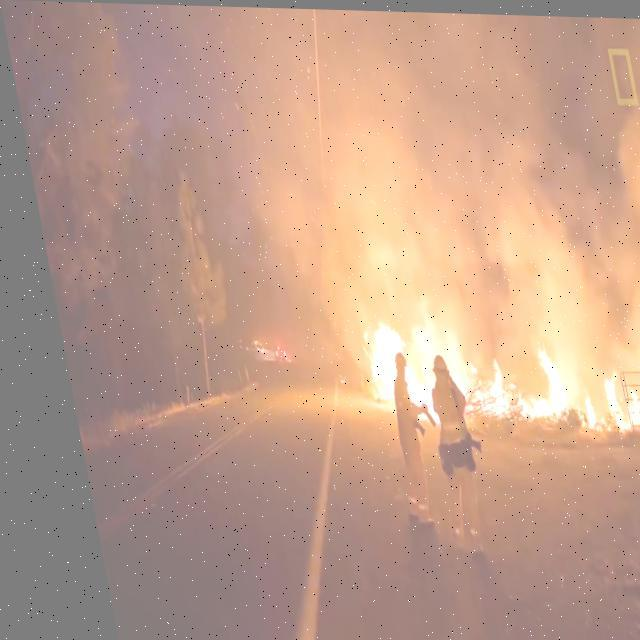Fire: (344, 288, 456, 419), (446, 344, 554, 420), (581, 354, 639, 432), (559, 394, 584, 426)
